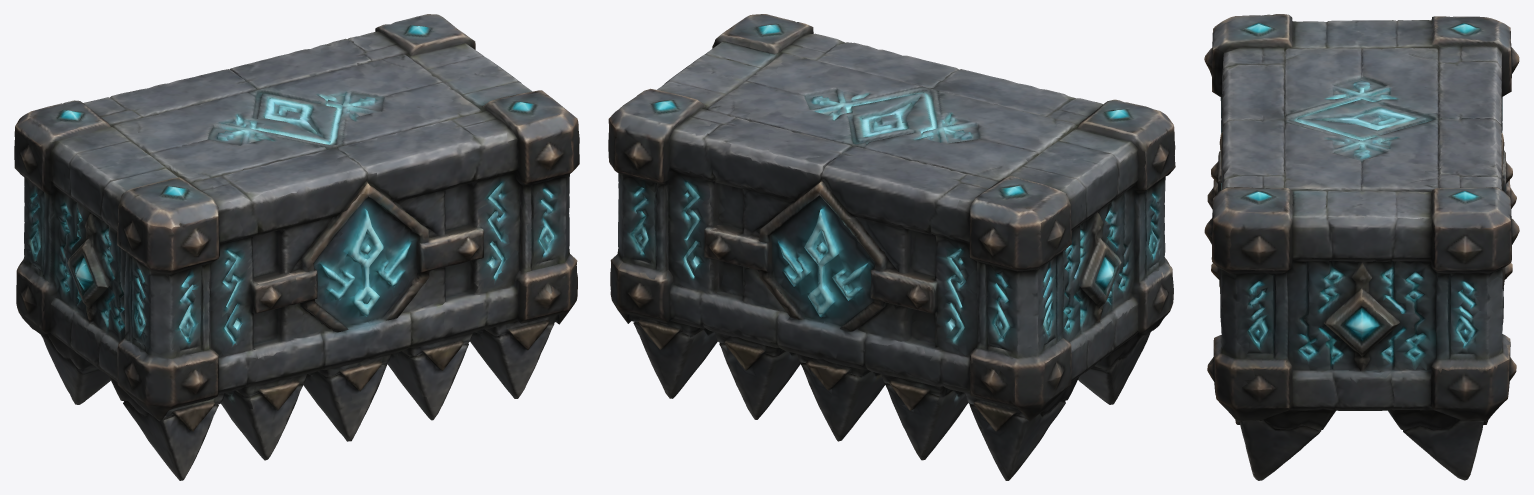
Rendered from Trap_Crusher.fbx.
The picture shows the model from 3 angles, left to right: view 1: azimuth 30°, elevation 25°; view 2: azimuth 150°, elevation 25°; view 3: azimuth 270°, elevation 25°; orthographic projection.
Visible parts, largest first — view 1: Trap_Crusher; view 2: Trap_Crusher; view 3: Trap_Crusher.
Part boxes in pixels (x1=…): Trap_Crusher: x1=14, y1=14, x2=579, y2=480; Trap_Crusher: x1=608, y1=14, x2=1175, y2=480; Trap_Crusher: x1=1204, y1=14, x2=1519, y2=480.
Bounding box in the file's own units: 230 × 147 × 143.
